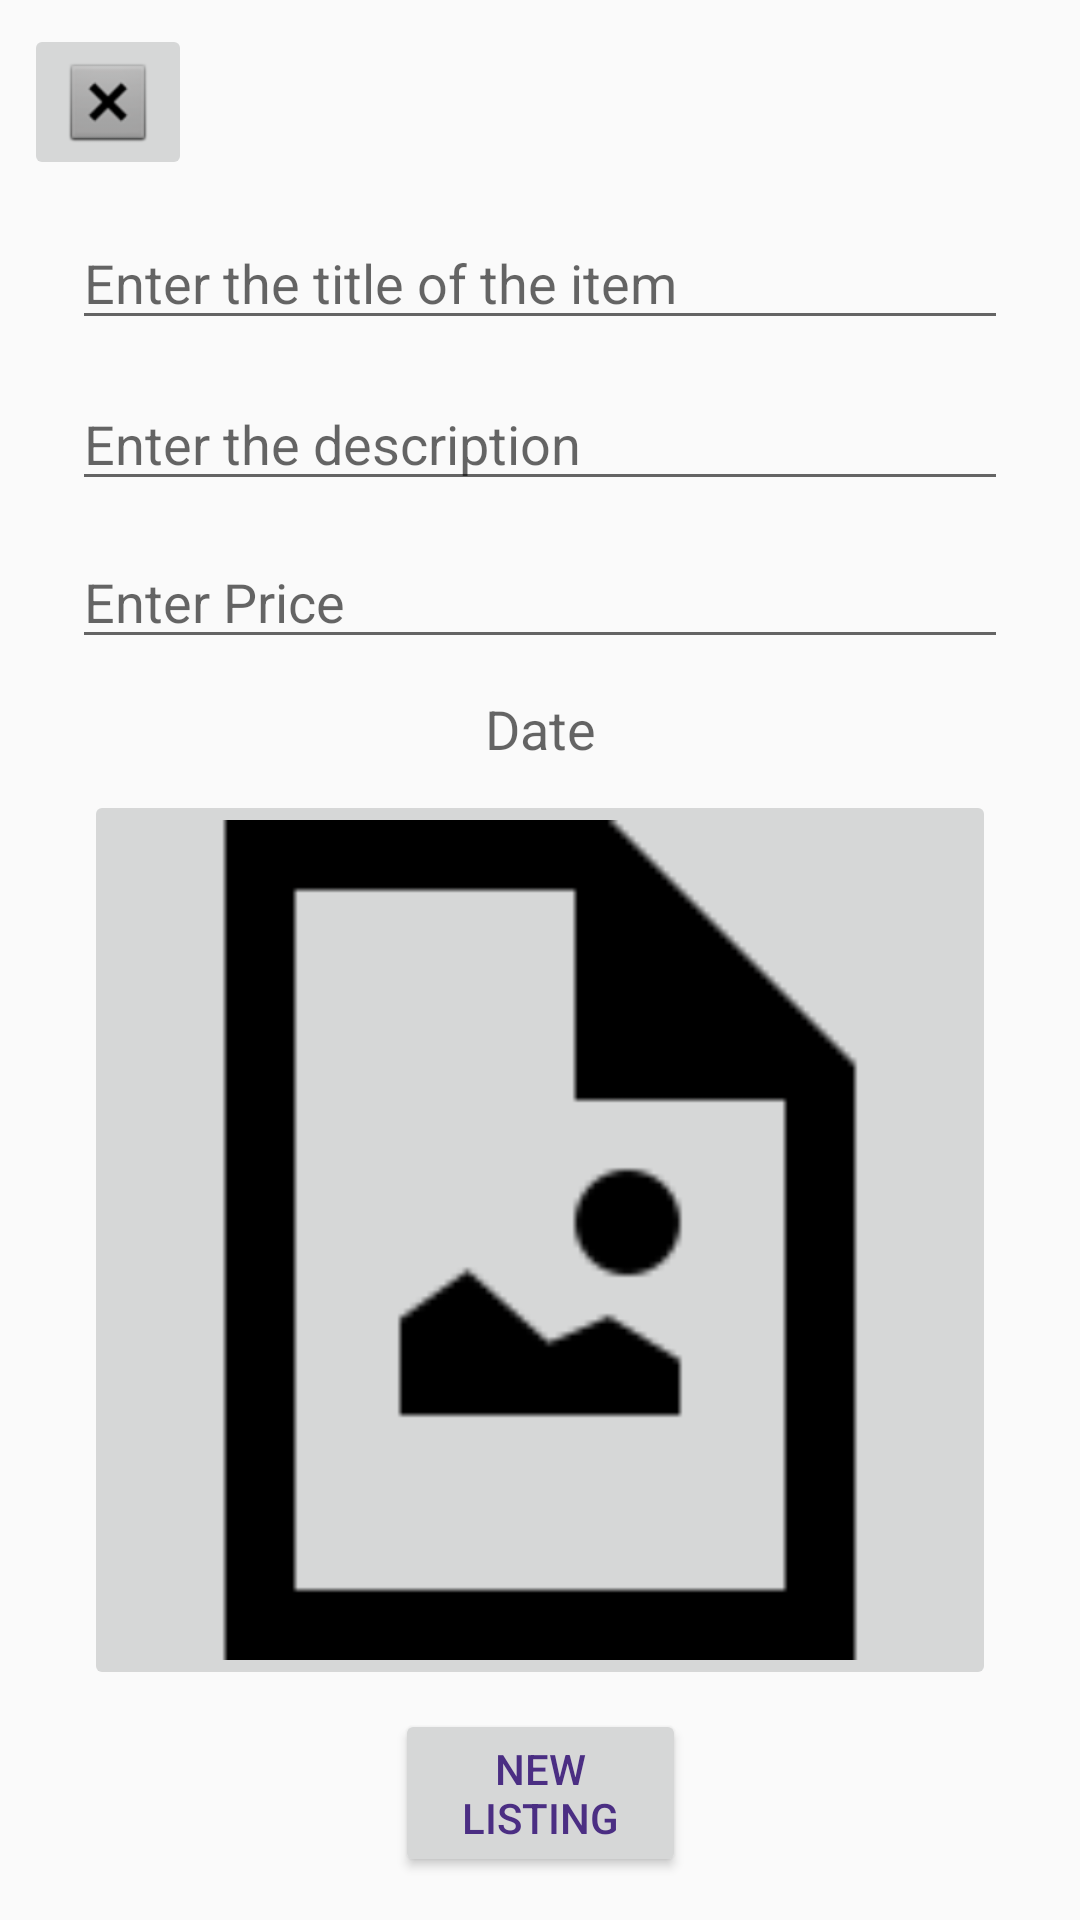

Icon click points for this 1080 x 1920 phone screenshot, format (x=x, y=y):
Exit this page: (x=108, y=102)
